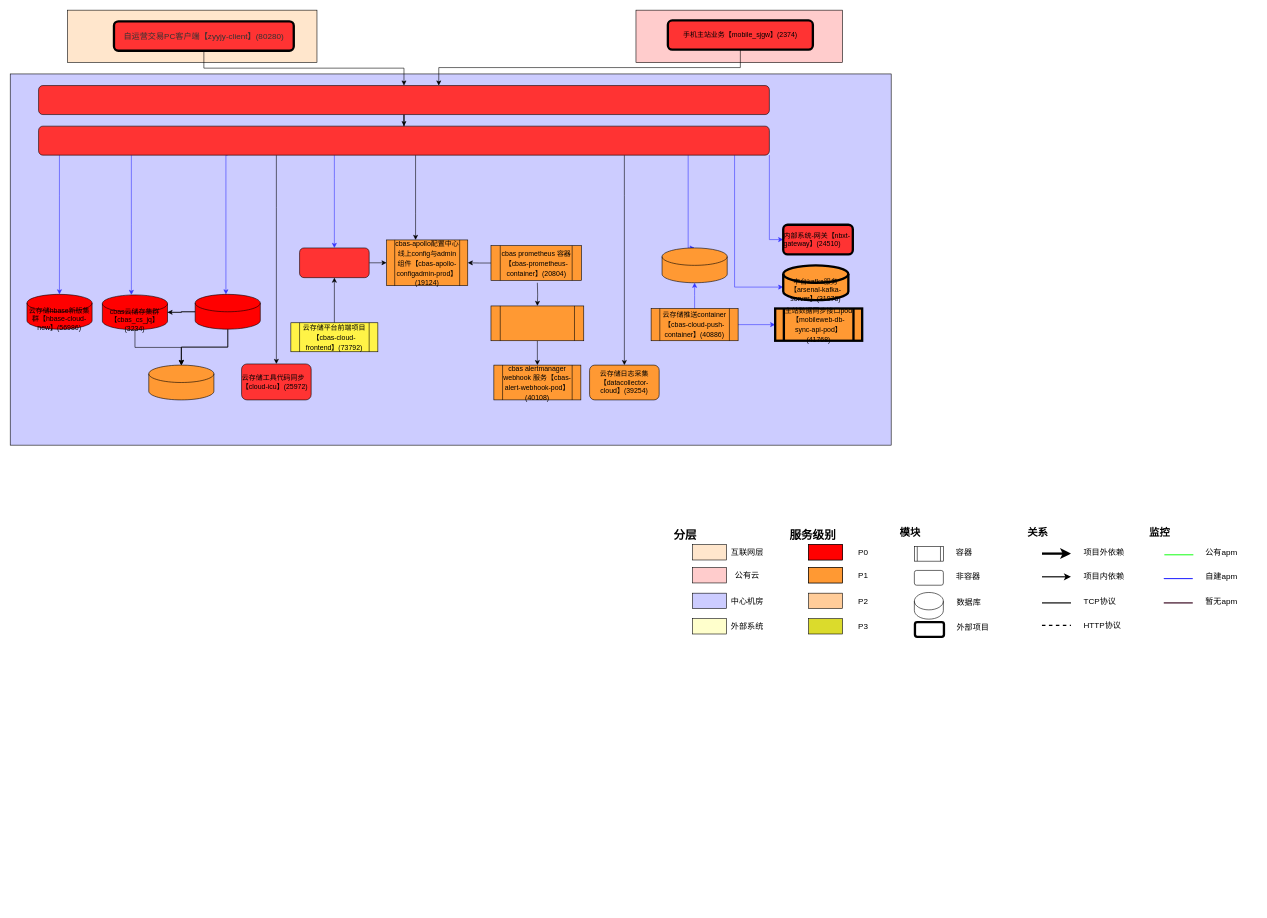
Image size: 1267x918. Some labels were removed from this diagram. The shapes that lost their labels are listed below. From the top down, each one's centre as x and y in pixels, then its label:
At point 403,100: "cbas云存储前端【cbas_cs_qd】(3233)".
At point 403,140: "云存储正式环境同步【cloud-online】(25968)".
At point 334,262: "云存储后台服务【cloud-manage】(39246)".
At point 694,265: "cbaskafka队列【cbas_kafka】(8304)".
At point 227,311: "自选股hbase集群【selfstock-hbase】(69556)".
At point 537,323: "cbas alertmanger 容器【cbas-alertmanager-container】(20806)".
At point 181,382: "cbas计算中心【cbas-computing-service】(30978)".
